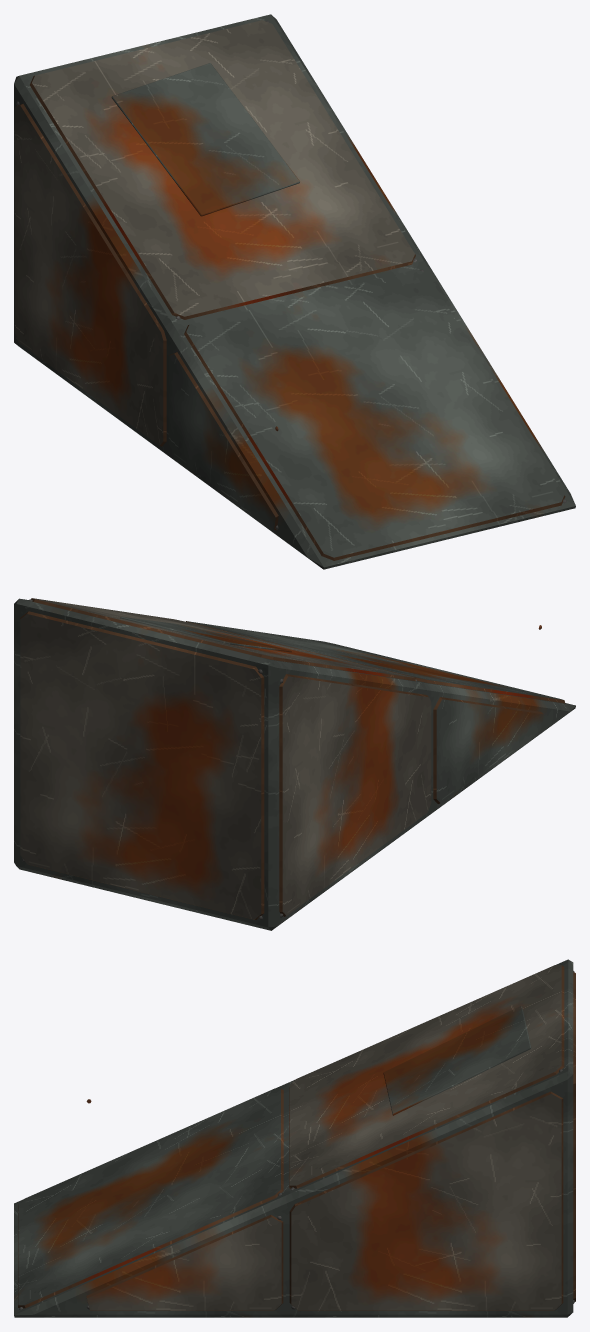
File: R4B_LongWedge.glb
The picture shows the model from 3 angles, top to bottom: view 1: azimuth 30°, elevation 25°; view 2: azimuth 150°, elevation 25°; view 3: azimuth 270°, elevation 25°; orthographic projection. The views are drawn at different scales.
Visible parts, largest first — view 1: R4B_LongWedge; view 2: R4B_LongWedge; view 3: R4B_LongWedge.
Part boxes in pixels (bbox=[...]): R4B_LongWedge: bbox=[14, 14, 575, 569]; R4B_LongWedge: bbox=[14, 598, 575, 930]; R4B_LongWedge: bbox=[14, 959, 575, 1317].
Bounding box in the file's own units: 0.52 × 0.5074 × 1.04.
Materials: 4 (4 with a texture image).
